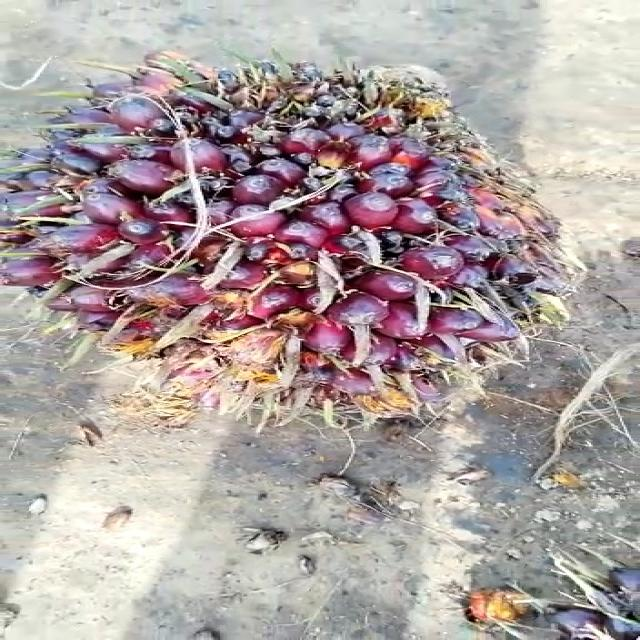palm oil: (0, 47, 589, 421)
